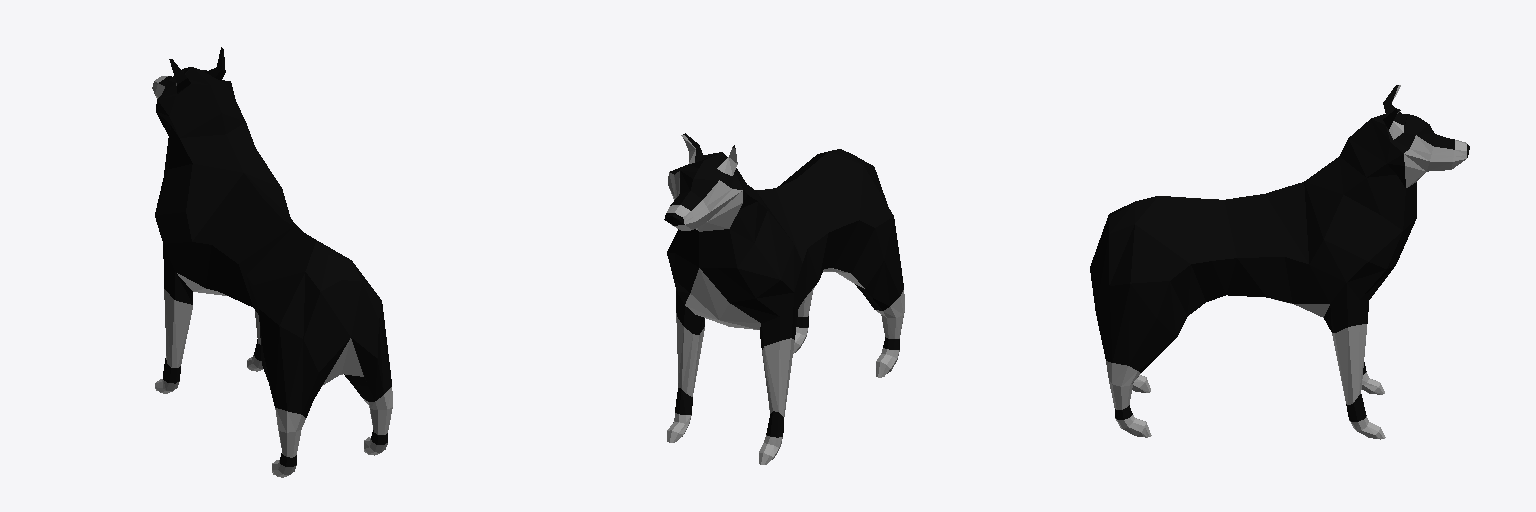
Rendered from husky.obj.
3 views of the same model, side by side, from view 1: azimuth 30°, elevation 25°; view 2: azimuth 150°, elevation 25°; view 3: azimuth 270°, elevation 25° (orthographic).
Visible parts, largest first — view 1: Cylinder; view 2: Cylinder; view 3: Cylinder.
Boxes of the visible parts, x1,y1,x2,y2 form: Cylinder: [152, 47, 392, 477]; Cylinder: [664, 133, 904, 464]; Cylinder: [1090, 85, 1469, 439].
Size of the model in its own units: 1.39 by 3.55 by 3.84.